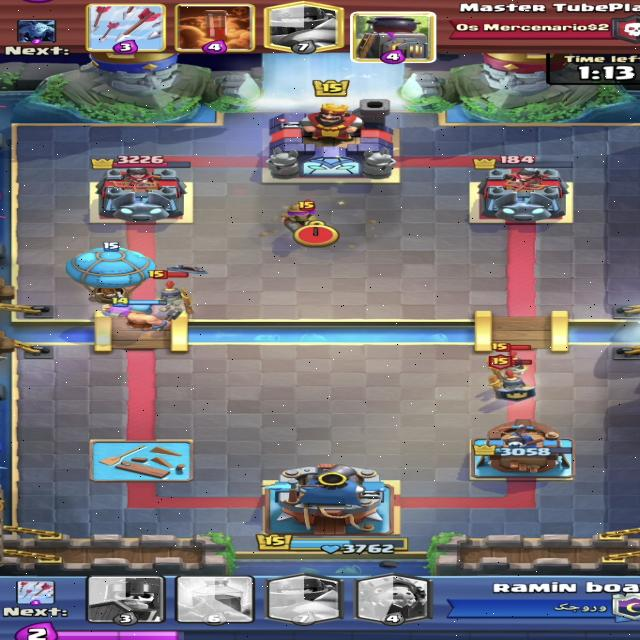Enemy-Guard: (487, 354, 536, 402), (146, 269, 192, 317), (490, 342, 533, 383)
Enemy-Musketeer: (282, 199, 321, 241)
Player-Balloon: (64, 242, 156, 305)
Player-Lumberjack: (100, 296, 183, 332)
